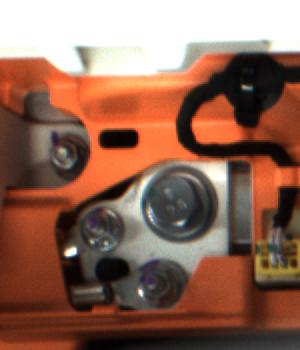nut_b: (133, 159, 222, 248)
